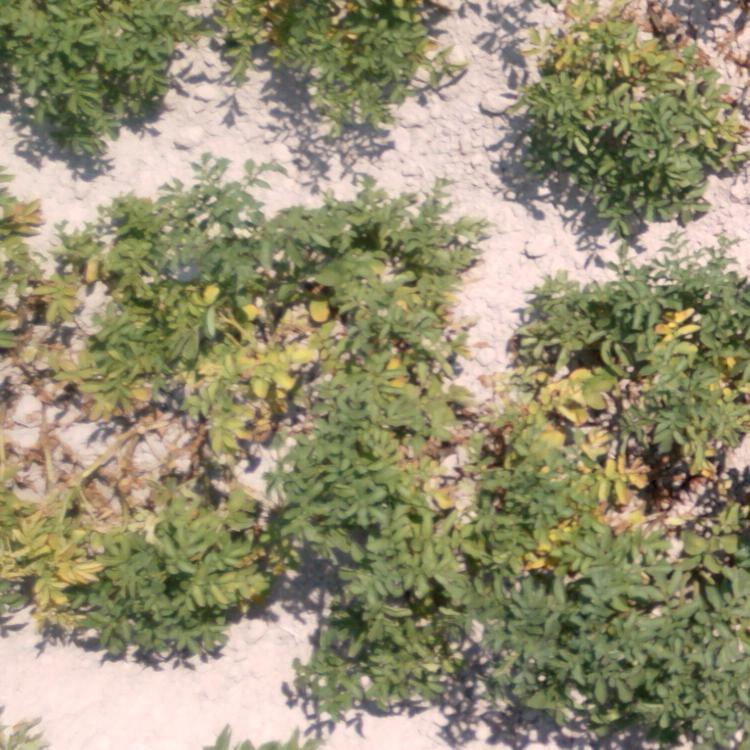healthy: (513, 594, 750, 737), (210, 1, 444, 119), (11, 1, 179, 144), (299, 585, 464, 717), (315, 417, 410, 570)
stressed: (469, 266, 744, 461), (115, 192, 308, 440), (545, 4, 729, 222), (121, 458, 273, 650), (427, 469, 706, 571), (313, 199, 455, 394), (3, 196, 91, 387), (1, 471, 113, 621)
